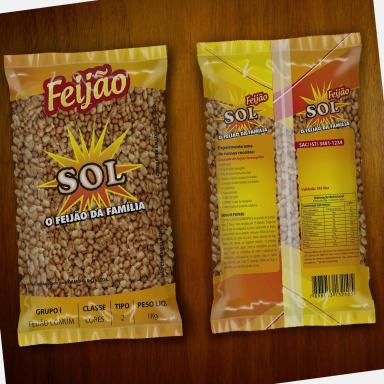beans package: (5, 46, 182, 345), (198, 34, 374, 332)
